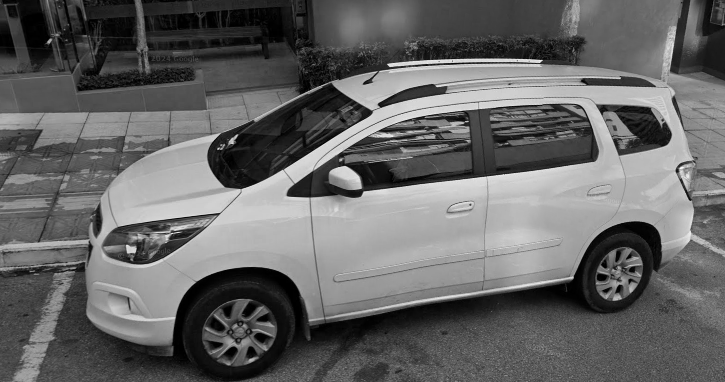car: (84, 62, 696, 378)
